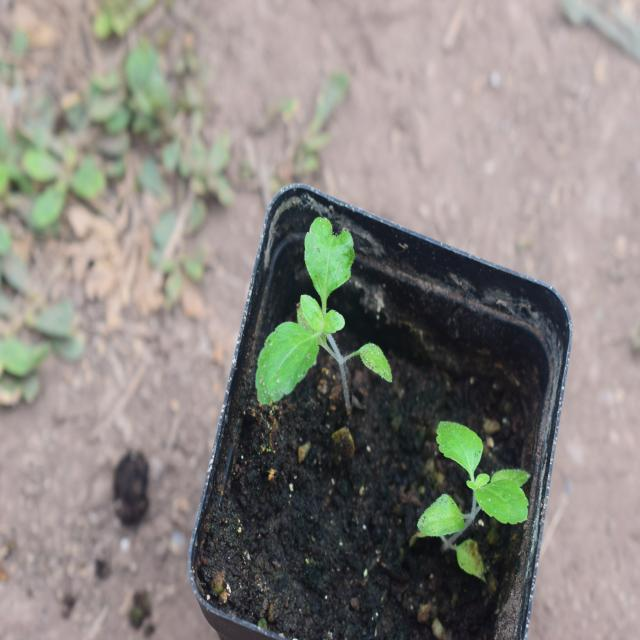billygoat_weed: (247, 212, 396, 432), (437, 390, 526, 559)
